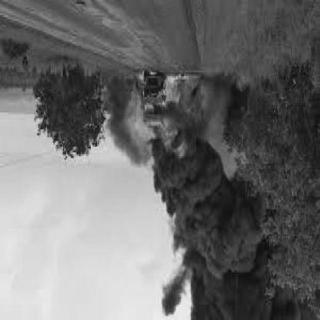Fire: (135, 64, 197, 158)
Smoke: (135, 136, 275, 320)
